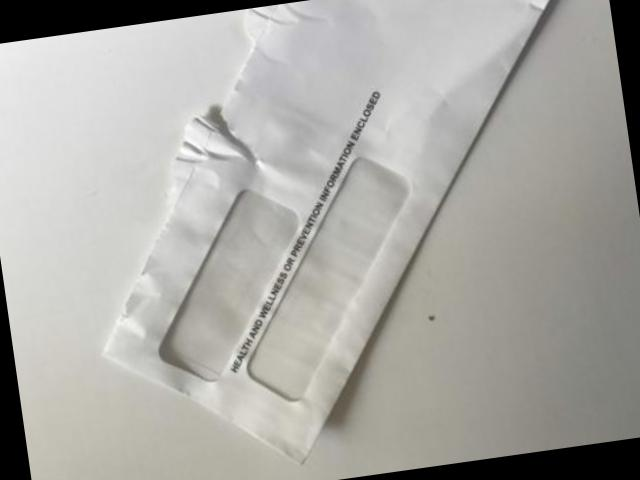cardboard paper: (102, 0, 544, 460)
